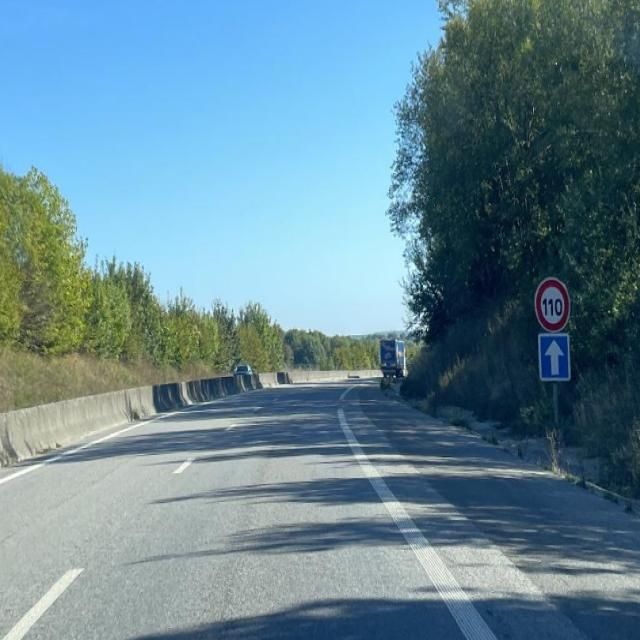speed_110: (536, 280, 572, 332)
